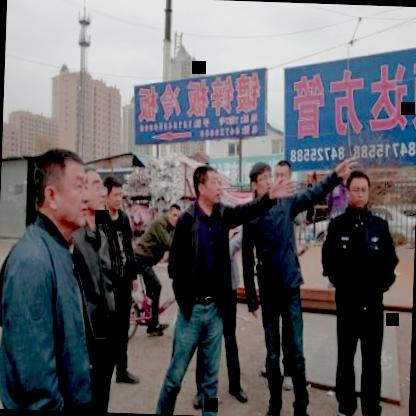head: (35, 139, 90, 231), (342, 164, 376, 213), (190, 162, 225, 209), (78, 174, 102, 230), (245, 160, 275, 202), (103, 170, 127, 217), (274, 158, 296, 198), (164, 200, 182, 232)
